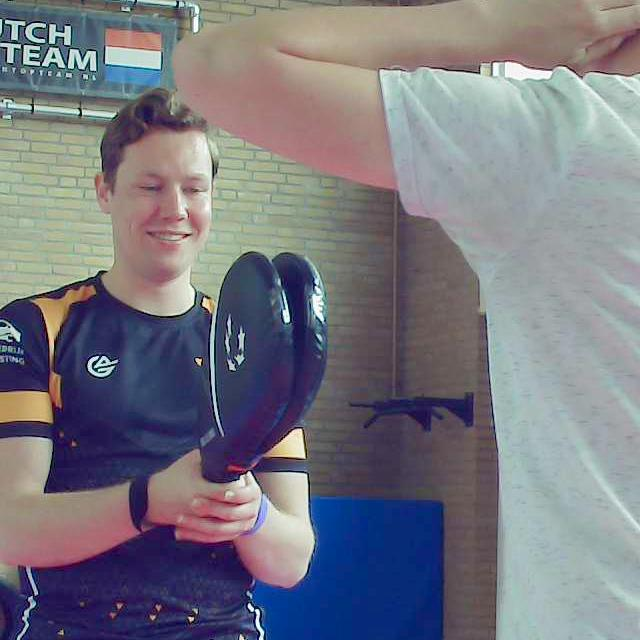paddle: (206, 249, 328, 484)
